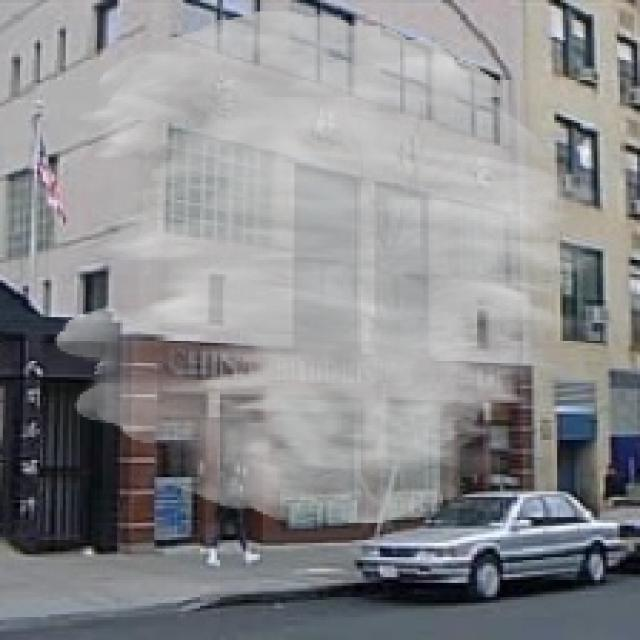Smoke: (54, 11, 603, 526)
